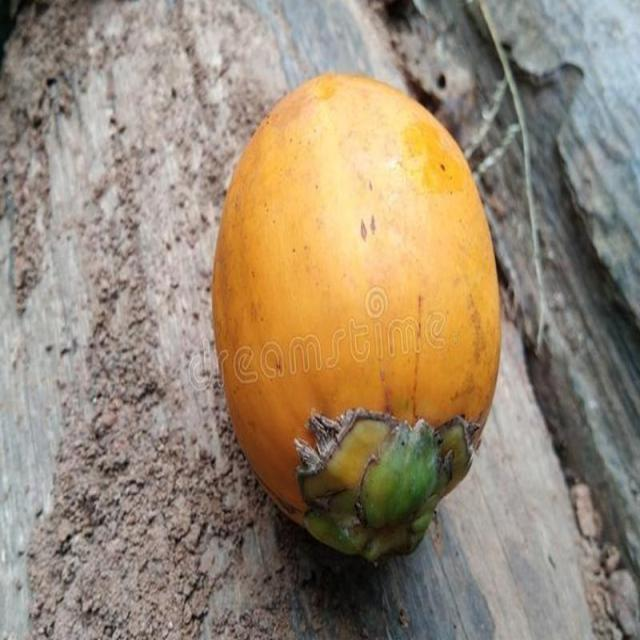good: (210, 73, 503, 566)
